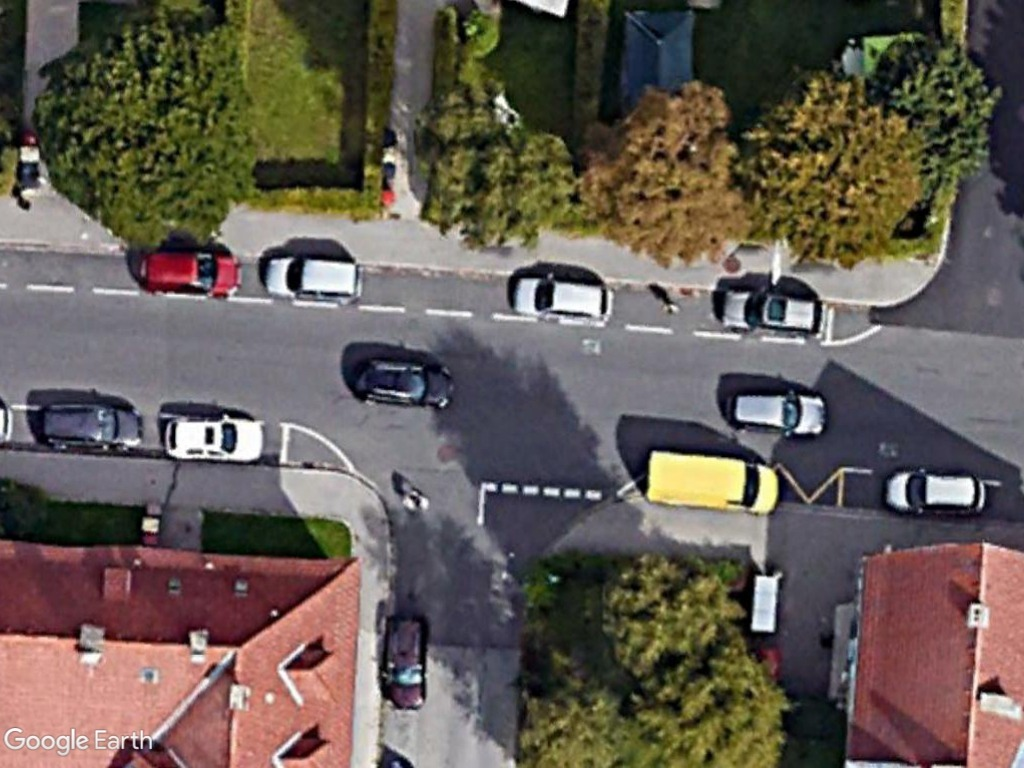car: (716, 285, 830, 344), (36, 399, 149, 457), (136, 247, 249, 303), (877, 463, 991, 518), (509, 273, 618, 328), (377, 611, 434, 716), (352, 355, 457, 410), (260, 253, 365, 307), (723, 389, 828, 442), (161, 415, 267, 465)
van: (641, 446, 786, 521)
